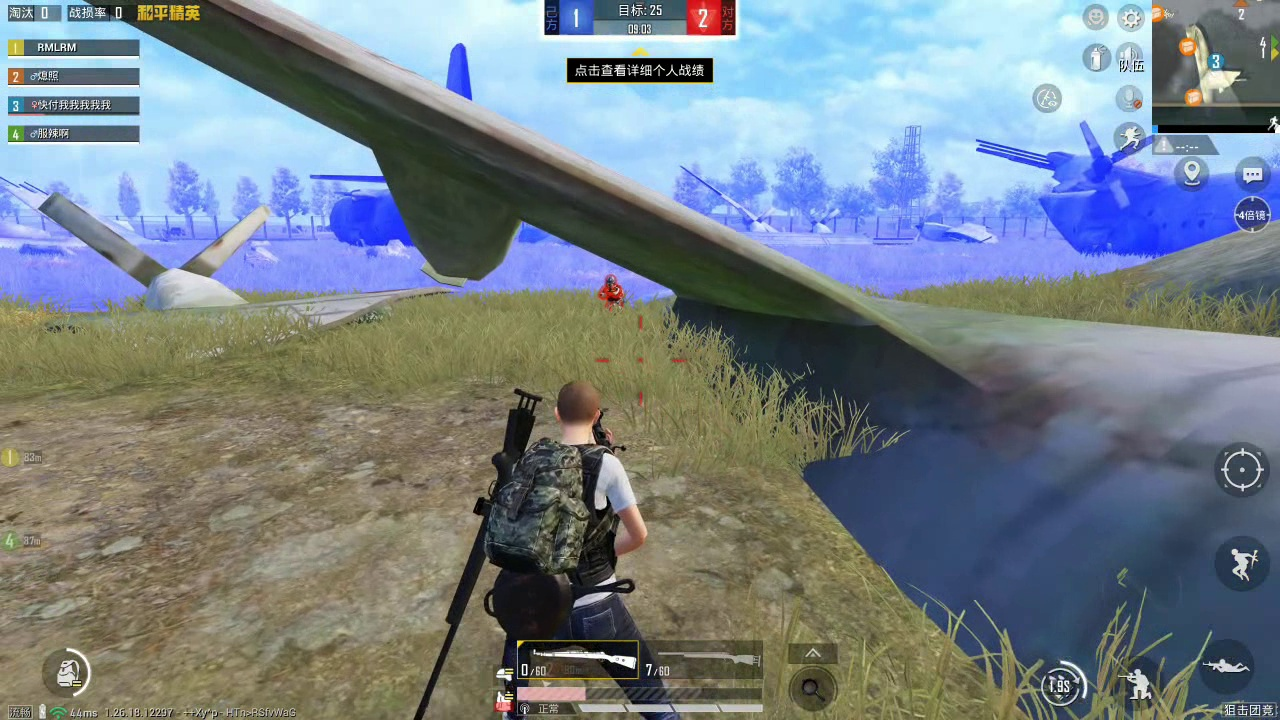enemy: (600, 271, 628, 315)
